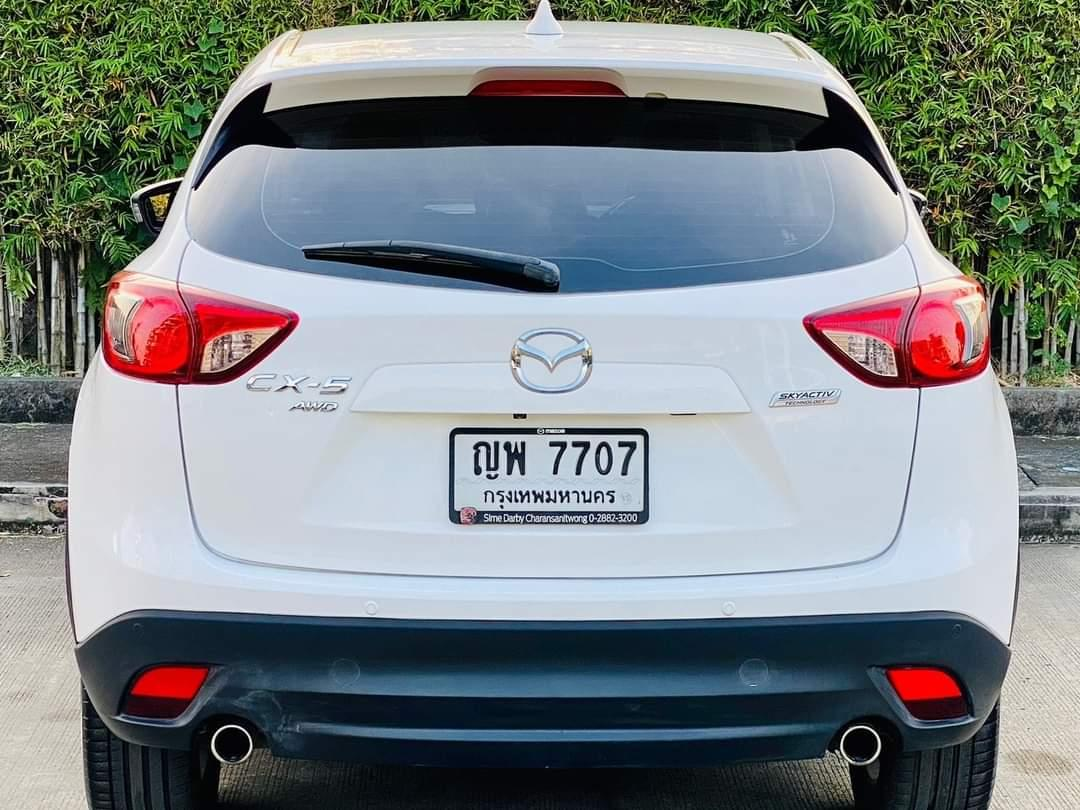license-plate: (443, 421, 656, 531)
